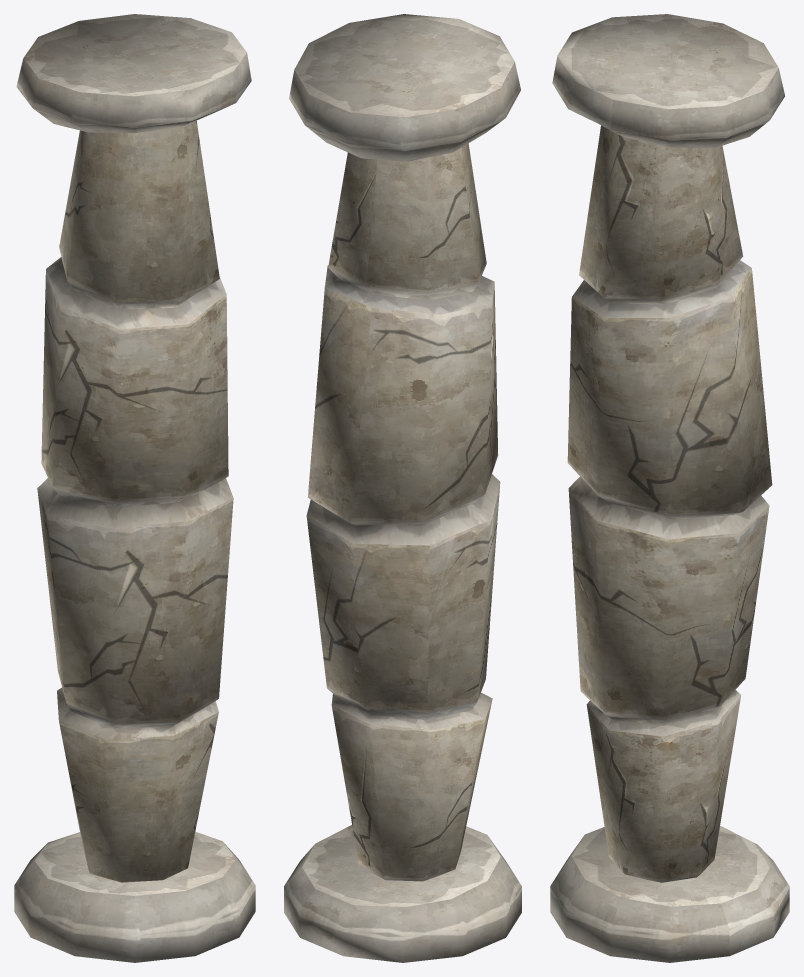
Rendered from Toon_Column_02_Full.fbx.
3 renders of one model, left to right at view 1: azimuth 30°, elevation 25°; view 2: azimuth 150°, elevation 25°; view 3: azimuth 270°, elevation 25°, orthographic.
Visible parts, largest first — view 1: Toon_Column_02_Full; view 2: Toon_Column_02_Full; view 3: Toon_Column_02_Full.
Boxes of the visible parts, x1,y1,x2,y2 form: Toon_Column_02_Full: (14, 14, 255, 962); Toon_Column_02_Full: (284, 14, 521, 962); Toon_Column_02_Full: (550, 14, 789, 962).
Size of the model in its own units: 4.21 by 16.63 by 4.21.
